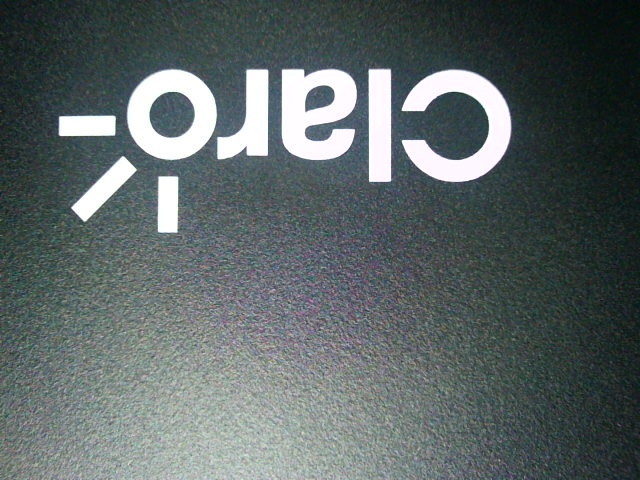BC_Claor: (49, 43, 522, 233)
